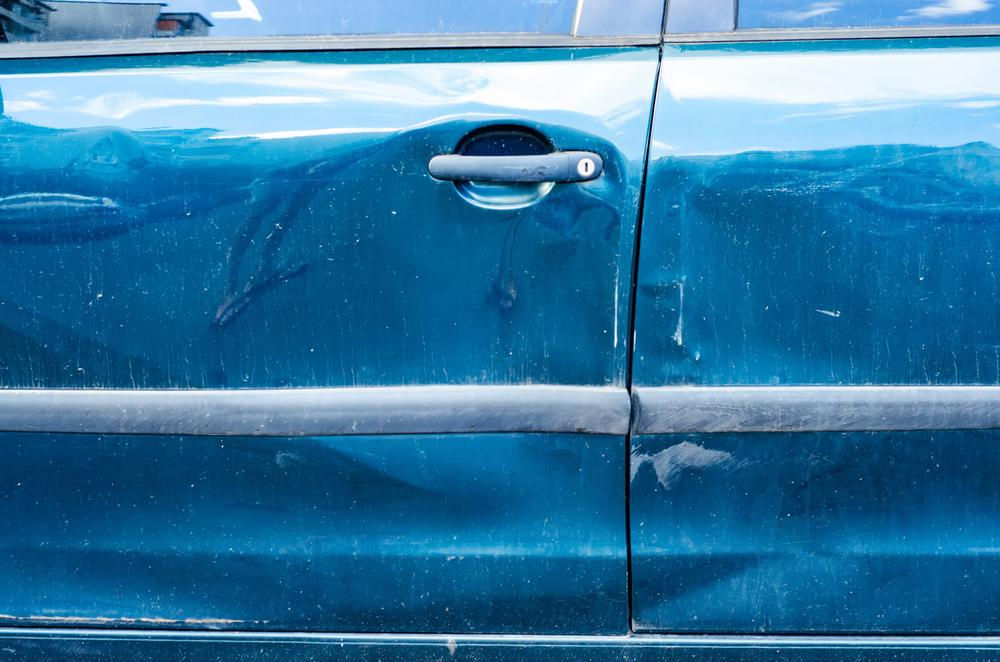dent: (215, 120, 628, 389), (637, 148, 902, 390), (645, 448, 1000, 616), (303, 429, 628, 559), (2, 544, 285, 628)
scratch: (625, 438, 742, 494)
